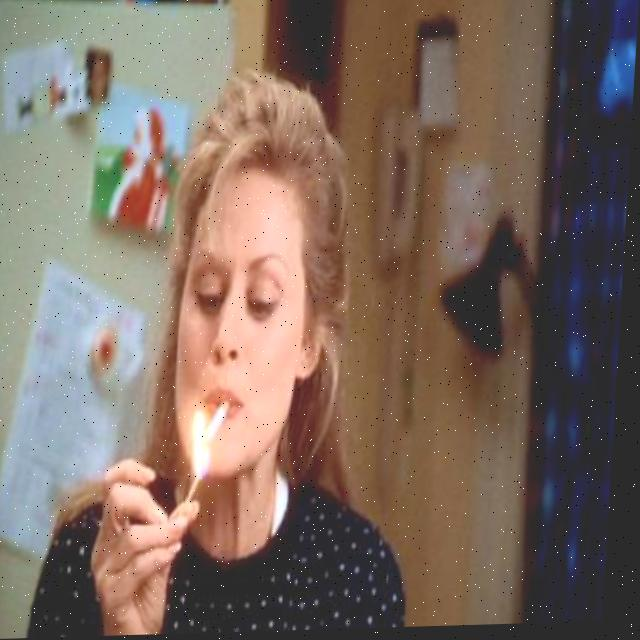cigarette: (211, 401, 236, 444)
